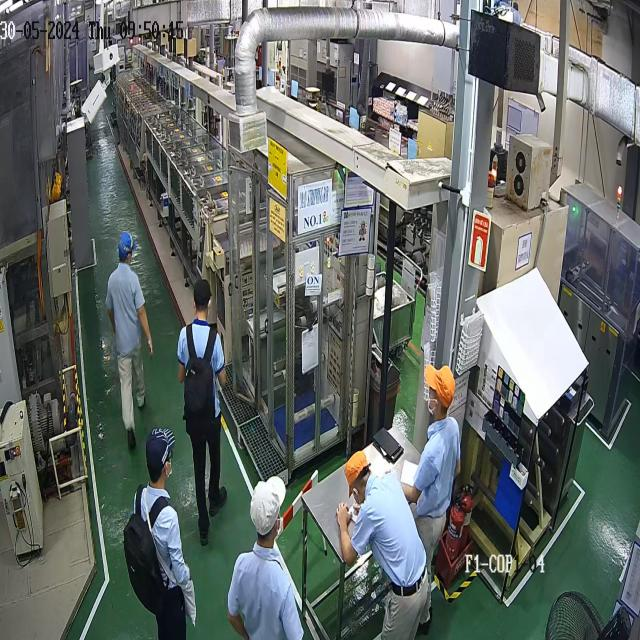Person: (335, 450, 430, 640), (401, 362, 462, 634), (132, 426, 197, 639), (177, 278, 227, 546), (227, 476, 304, 639), (105, 230, 154, 450)
